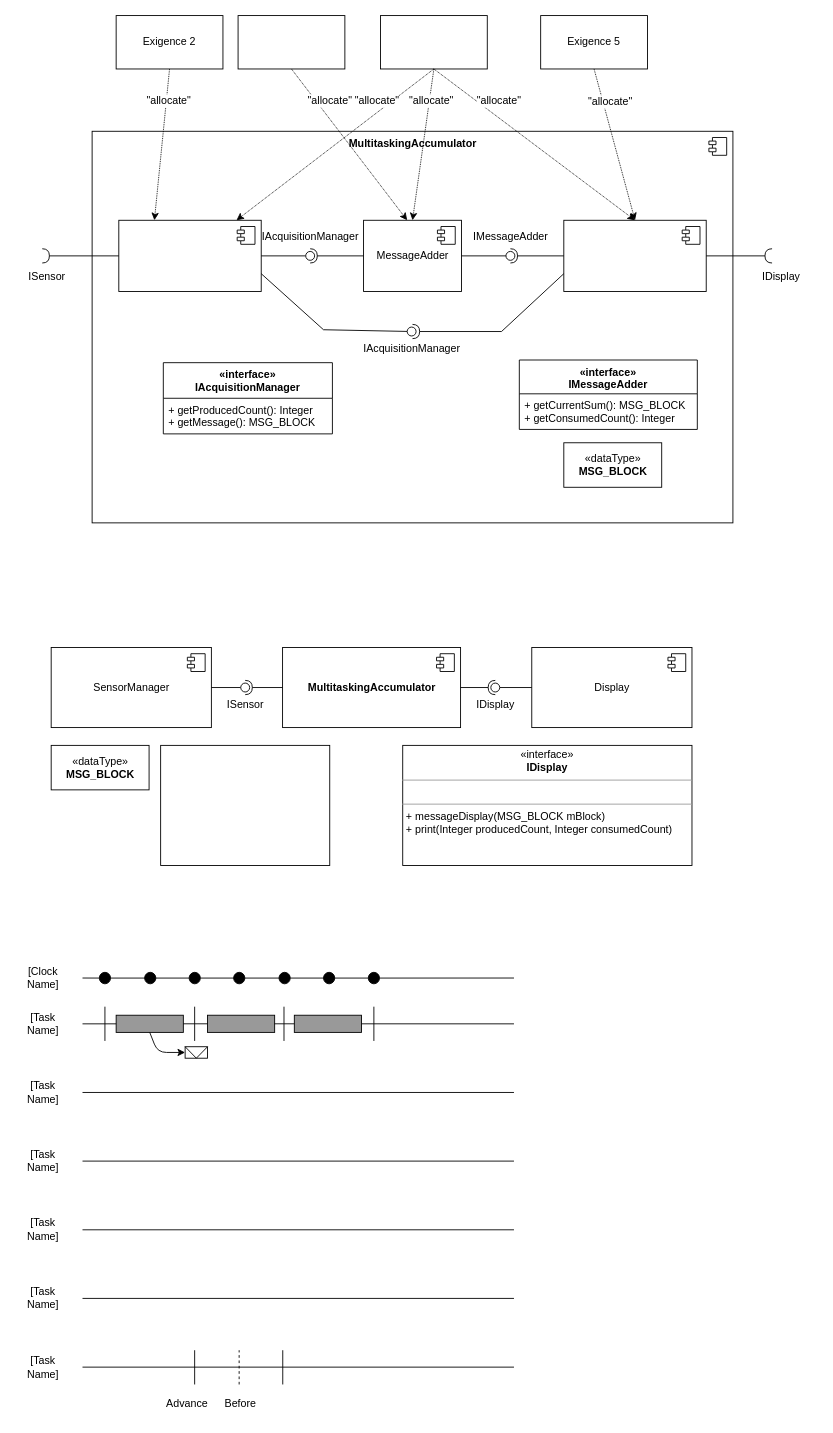
Image size: 833x1433. Some labels were removed from this diagram. Each missing label, with the centre of its shape:
AcquisitionManager: (189,255)
DisplayManager: (634,255)
Exigence 1 Exigence 4: (433,42)
Exigence 3: (291,42)
«interface» ISensor + getInput(int i): MSG_BLOCK: (245,805)
